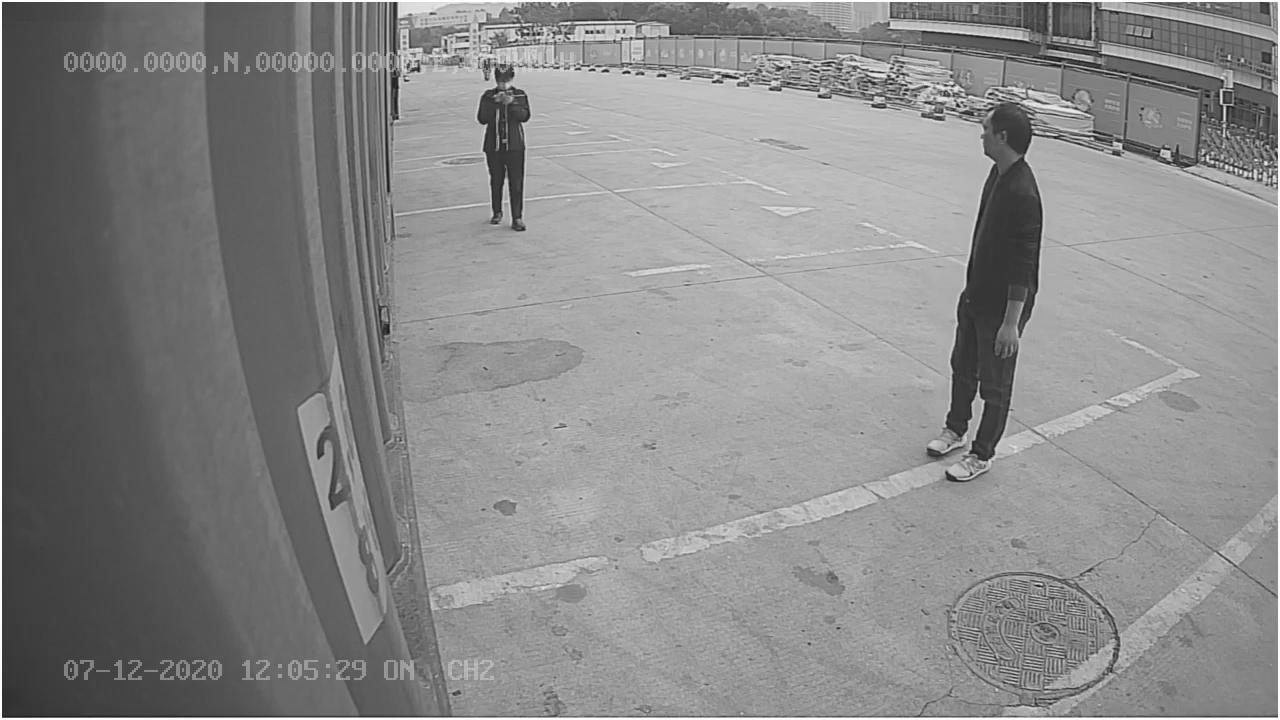person: (924, 102, 1047, 485)
